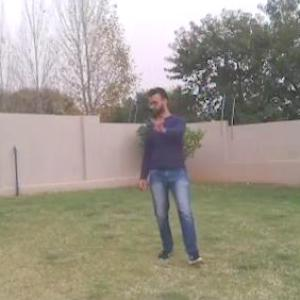takeoff-hand: (147, 112, 167, 139)
